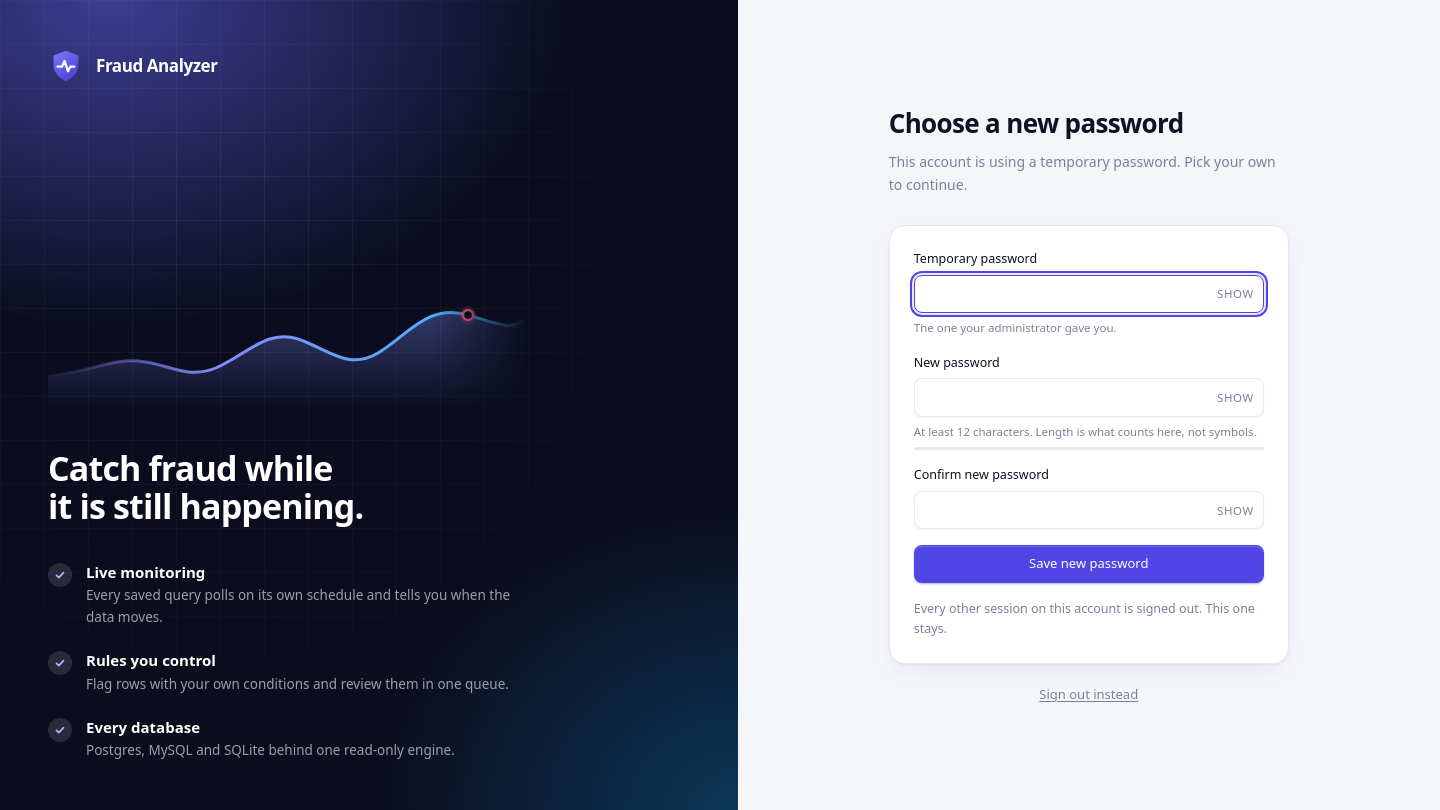
Scenario: when the engine refuses › does not wipe what was typed
In the password field labelled "Temporary password": (1089, 294) top-left (914, 275), bottom-right (1264, 313), type "temp-one"
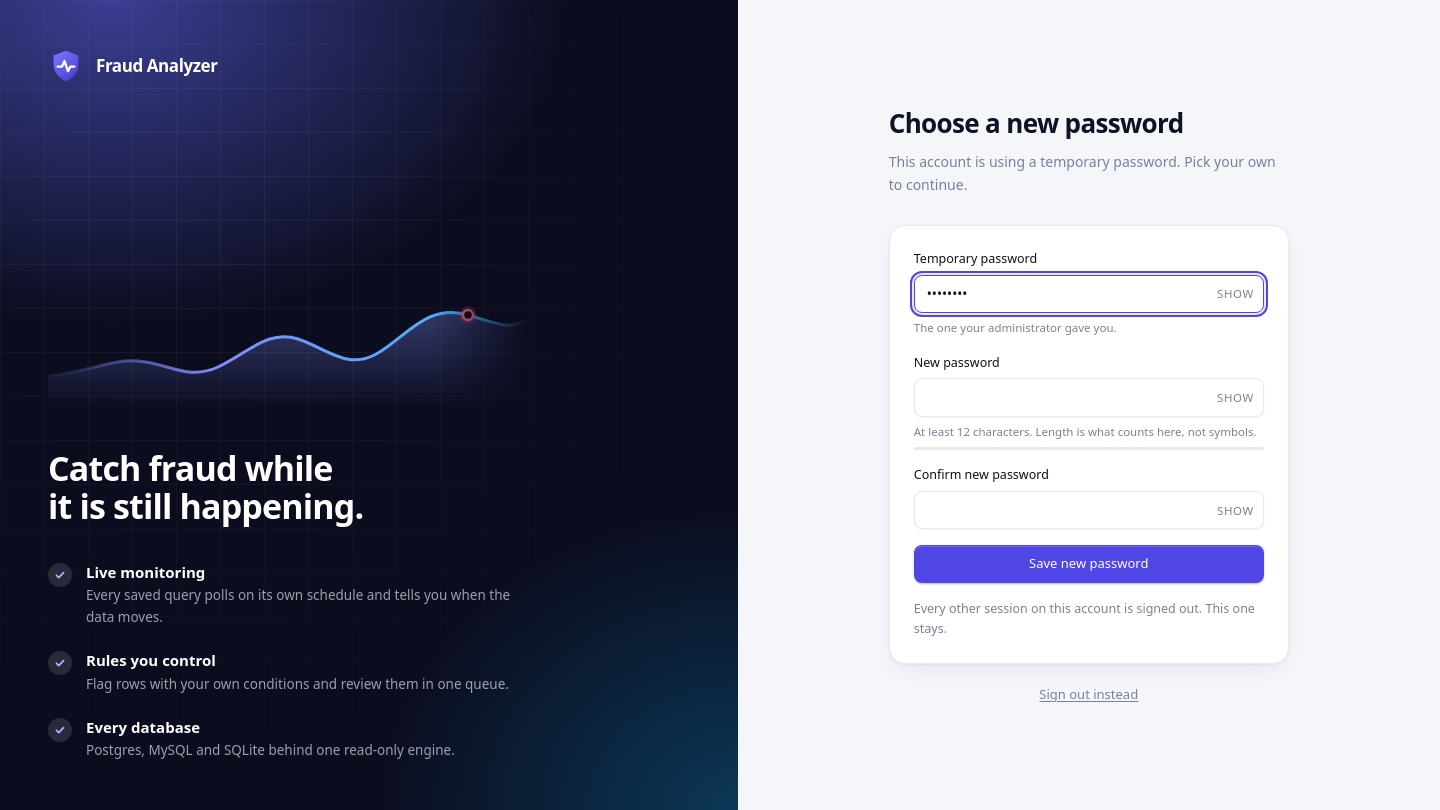
In the password field labelled "New password": (1089, 398) top-left (914, 378), bottom-right (1264, 417), type "a-perfectly-fine-password"
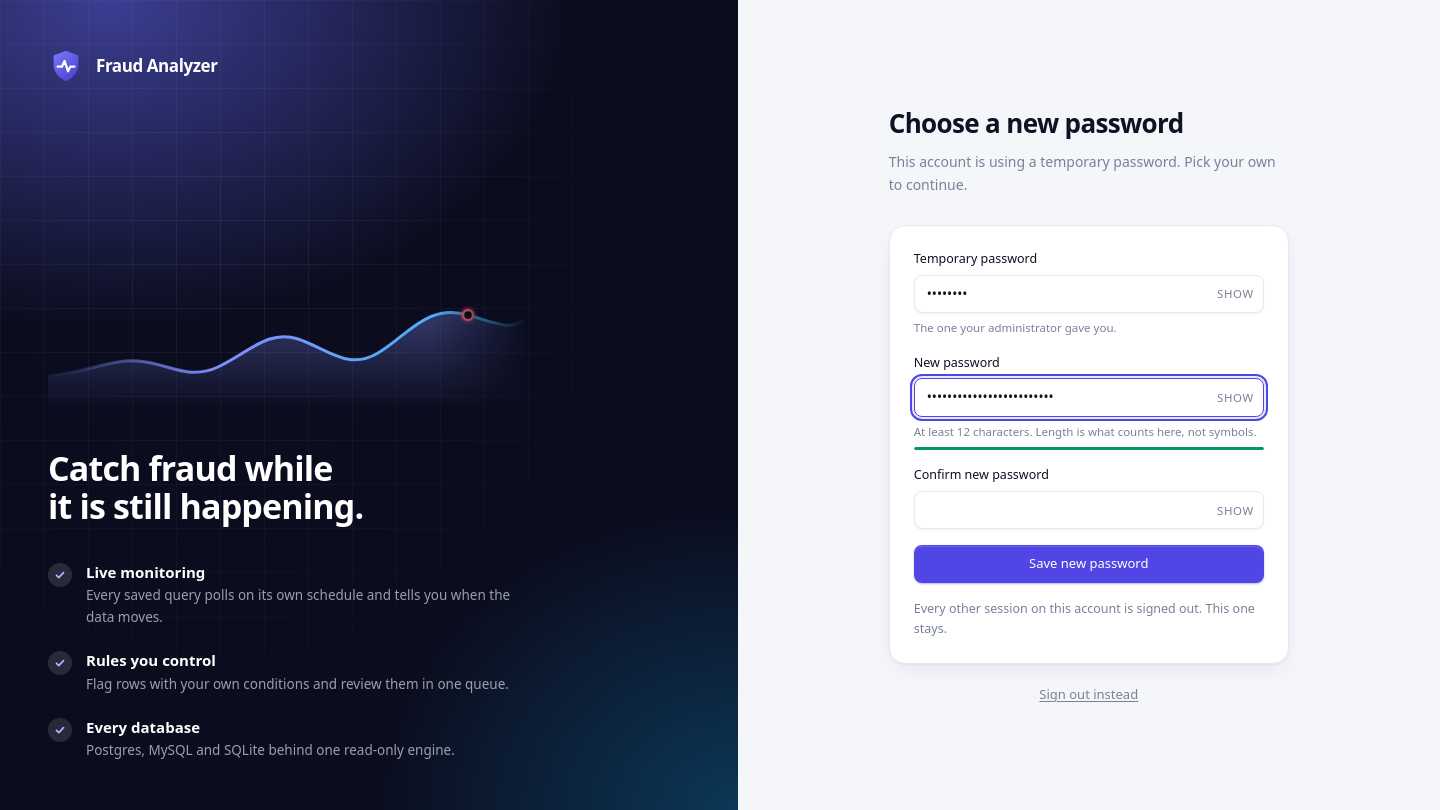
In the password field labelled "Confirm new password": (1089, 510) top-left (914, 491), bottom-right (1264, 529), type "a-perfectly-fine-password"
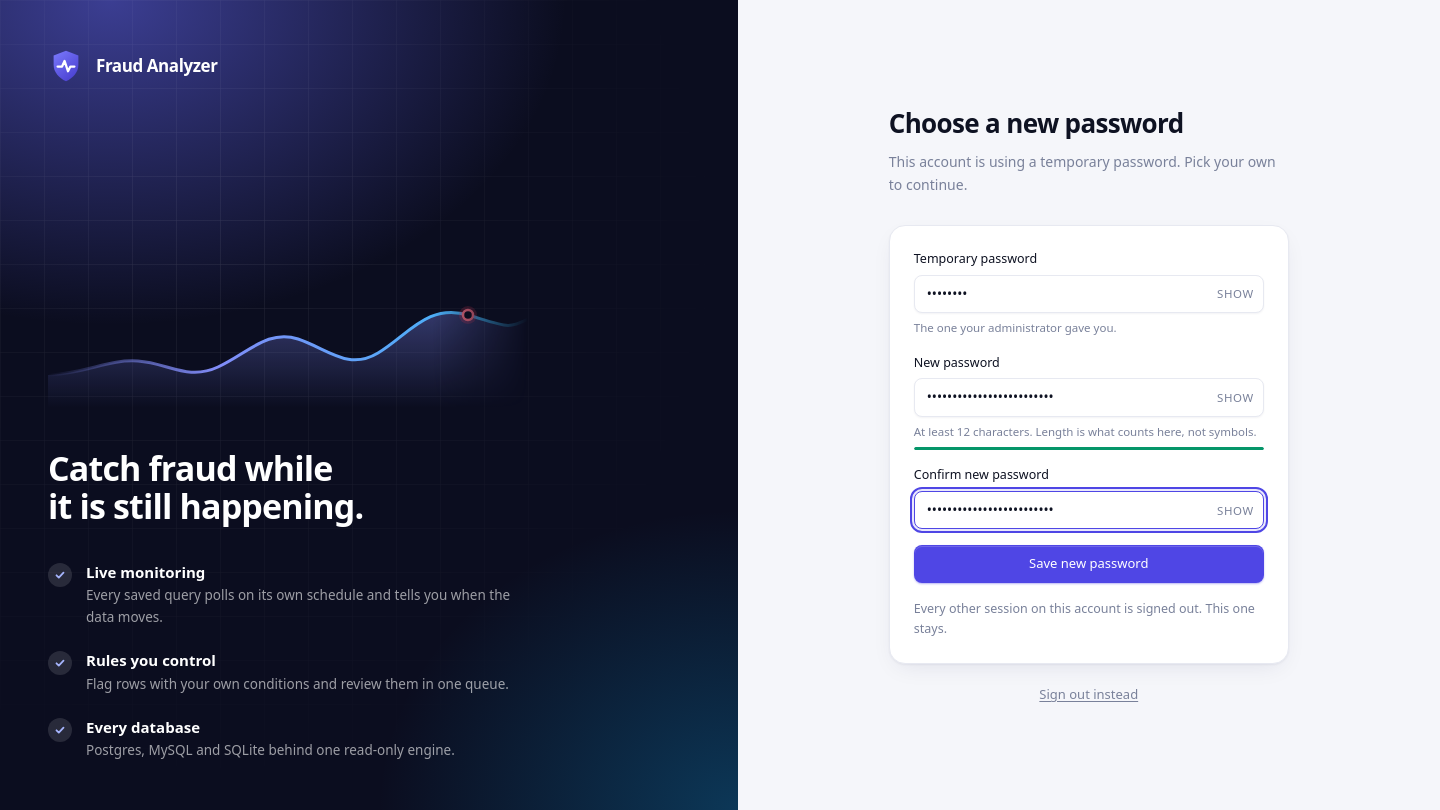
Click the button "Save new password": (1089, 564) top-left (914, 545), bottom-right (1264, 583)
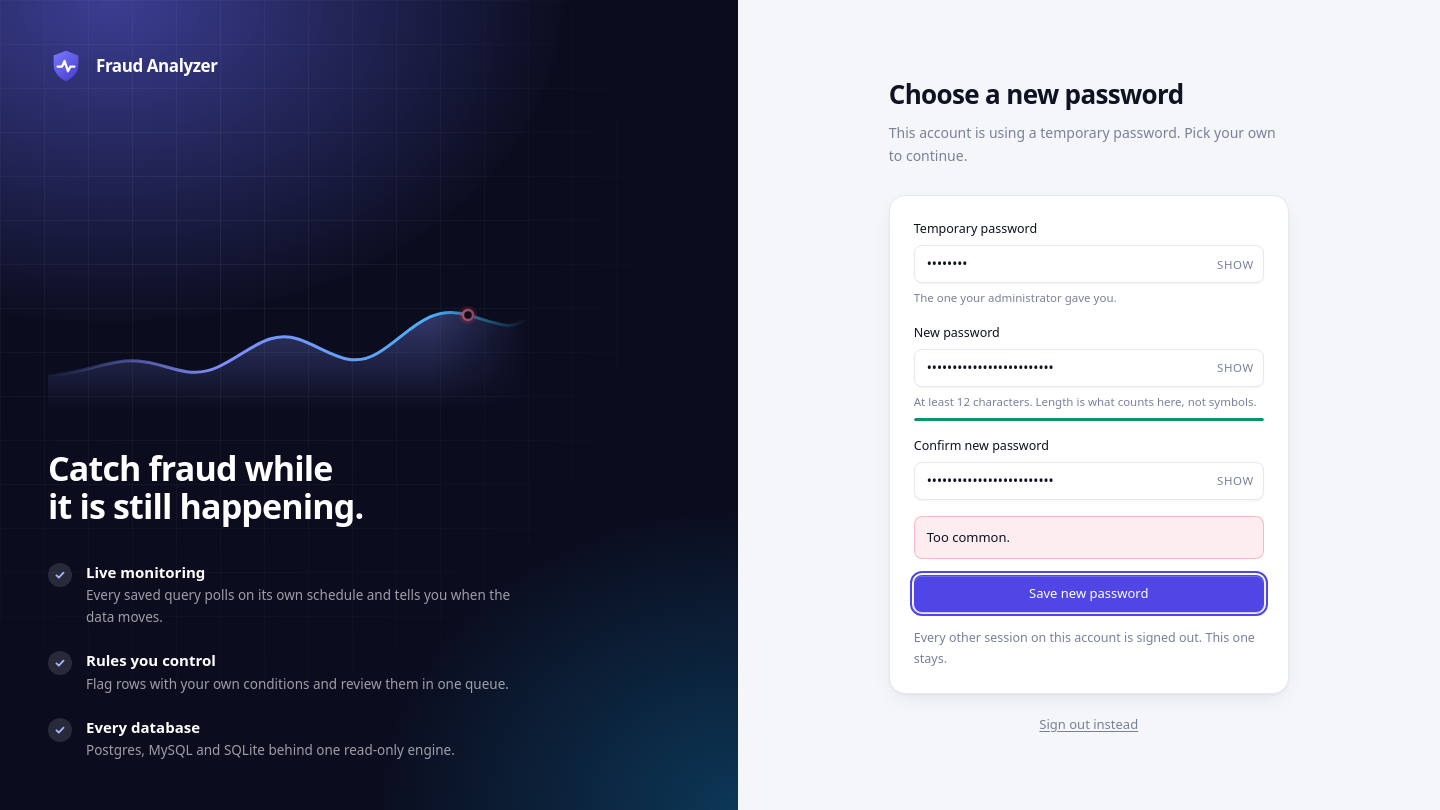
Now the text "Too common." is shown, box top-left (914, 516), bottom-right (1264, 559)
